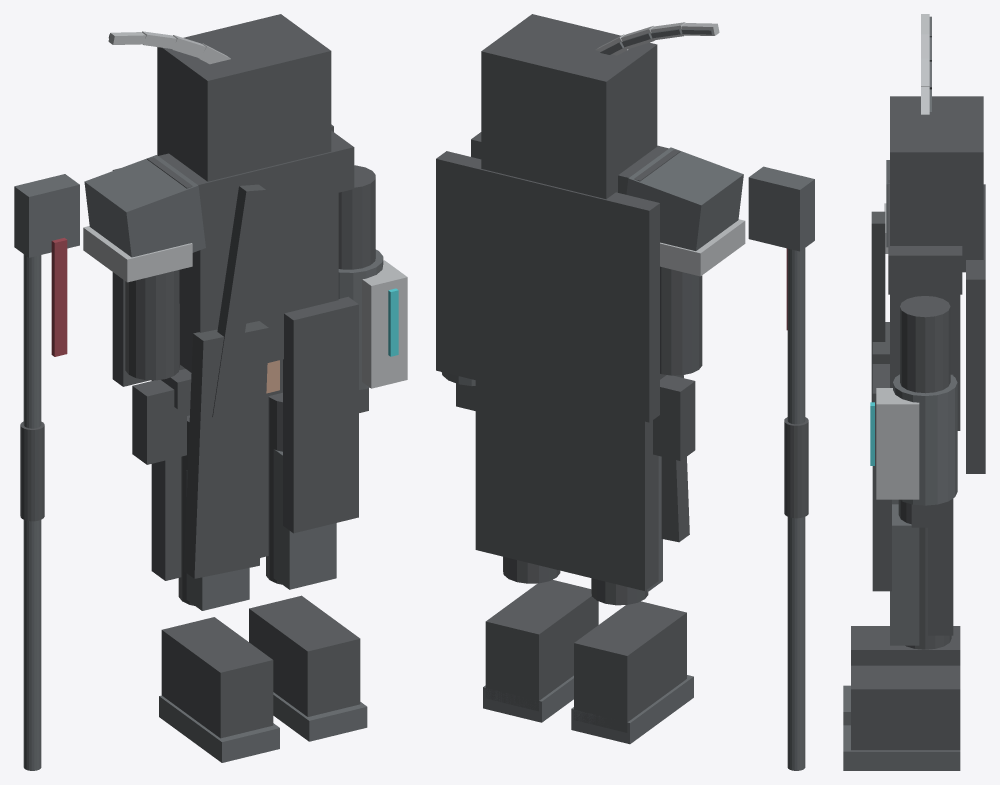
The model's file is ain_outfit_06_Heugu_bonebound_v02.glb.
The picture shows the model from 3 angles, left to right: view 1: azimuth 30°, elevation 25°; view 2: azimuth 150°, elevation 25°; view 3: azimuth 270°, elevation 25°; orthographic projection. The views are drawn at different scales.
Parts seen in each view (by area): view 1: hood_shell, coat_front_L, coat_front_R, torso_shell, boot_L, boot_R, left_shoulder_plate, scythe_shaft_5, shoulder_yoke, asym_harness_6, sleeve_L, coat_back (+17 smaller); view 2: back_mantle, coat_back, hood_shell, boot_L, boot_R, scythe_shaft_5, left_shoulder_plate, scythe_head_base_5, sleeve_L, pouch_L, boot_sole_L, scythe_grip_5 (+6 smaller); view 3: hood_shell, boot_R, right_gauntlet, sleeve_R, right_gauntlet_spine, back_mantle, shoulder_yoke, shin_plate_R, coat_back, boot_L, boot_sole_R, coat_front_R (+8 smaller).
Boxes of the visible parts, <box> form: hood_shell: <box>157,14,331,181</box>; coat_front_L: <box>184,321,268,578</box>; coat_front_R: <box>283,296,358,533</box>; torso_shell: <box>179,193,338,372</box>; boot_L: <box>161,617,273,738</box>; boot_R: <box>249,595,360,716</box>; left_shoulder_plate: <box>84,155,205,257</box>; scythe_shaft_5: <box>23,254,41,770</box>; shoulder_yoke: <box>147,130,354,225</box>; asym_harness_6: <box>212,184,265,417</box>; sleeve_L: <box>125,270,179,380</box>; coat_back: <box>151,304,282,580</box>; back_mantle: <box>436,151,659,422</box>; coat_back: <box>475,380,658,590</box>; hood_shell: <box>481,14,657,199</box>; boot_L: <box>574,601,686,732</box>; boot_R: <box>485,579,598,711</box>; scythe_shaft_5: <box>787,248,805,770</box>; left_shoulder_plate: <box>626,147,743,250</box>; scythe_head_base_5: <box>748,166,814,251</box>; sleeve_L: <box>660,266,702,375</box>; pouch_L: <box>653,375,695,460</box>; boot_sole_L: <box>571,675,693,744</box>; scythe_grip_5: <box>784,417,808,518</box>; hood_shell: <box>890,96,983,272</box>; boot_R: <box>851,665,960,750</box>; right_gauntlet: <box>893,374,957,505</box>; sleeve_R: <box>900,296,950,393</box>; right_gauntlet_spine: <box>876,388,919,499</box>; back_mantle: <box>966,184,985,473</box>; shoulder_yoke: <box>888,180,962,294</box>; shin_plate_R: <box>890,504,919,645</box>; coat_back: <box>928,374,953,635</box>; boot_L: <box>851,626,960,665</box>; boot_sole_R: <box>843,725,960,770</box>; coat_front_R: <box>872,364,891,591</box>.
Size of the model in its own units: 0.99 by 1.88 by 0.365.
